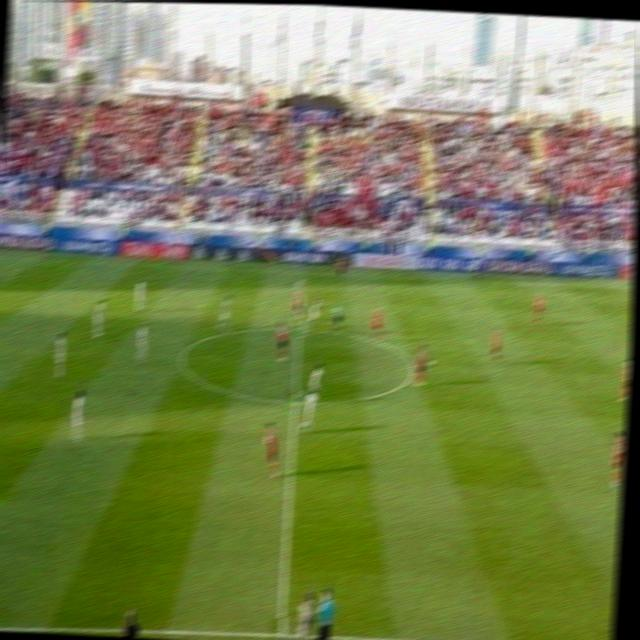bottom_arc_area_intersection: (280, 459, 301, 484)
halfcircle_bottom: (284, 387, 305, 412)
halfcircle_top: (290, 317, 311, 337)
midline_bottom_intersection: (267, 616, 295, 640)
